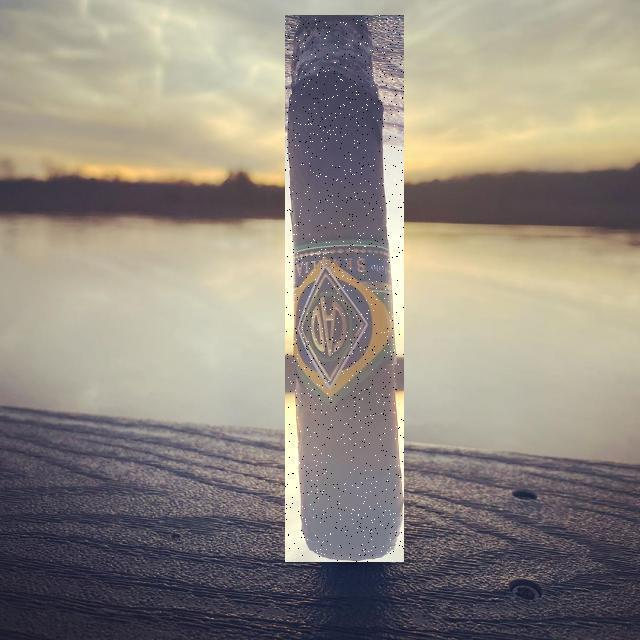smoking: (285, 15, 404, 562)
